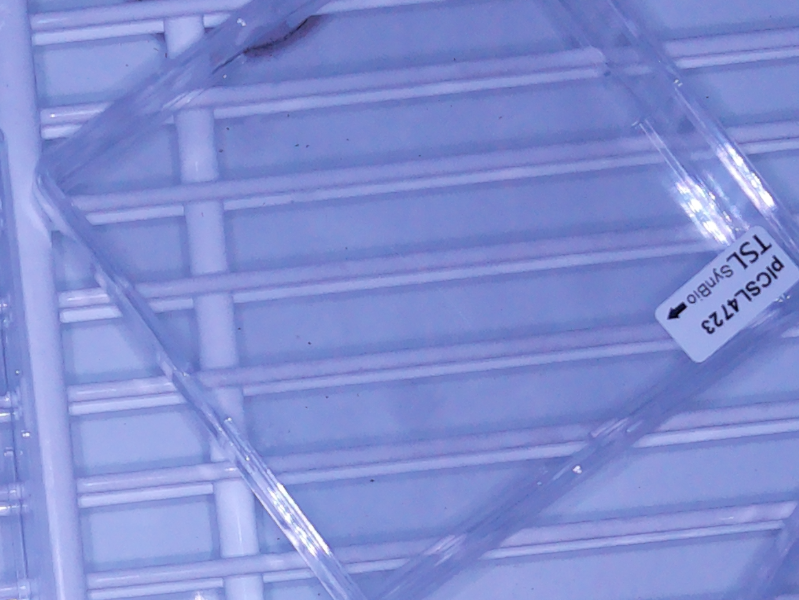plate: (30, 1, 799, 599)
